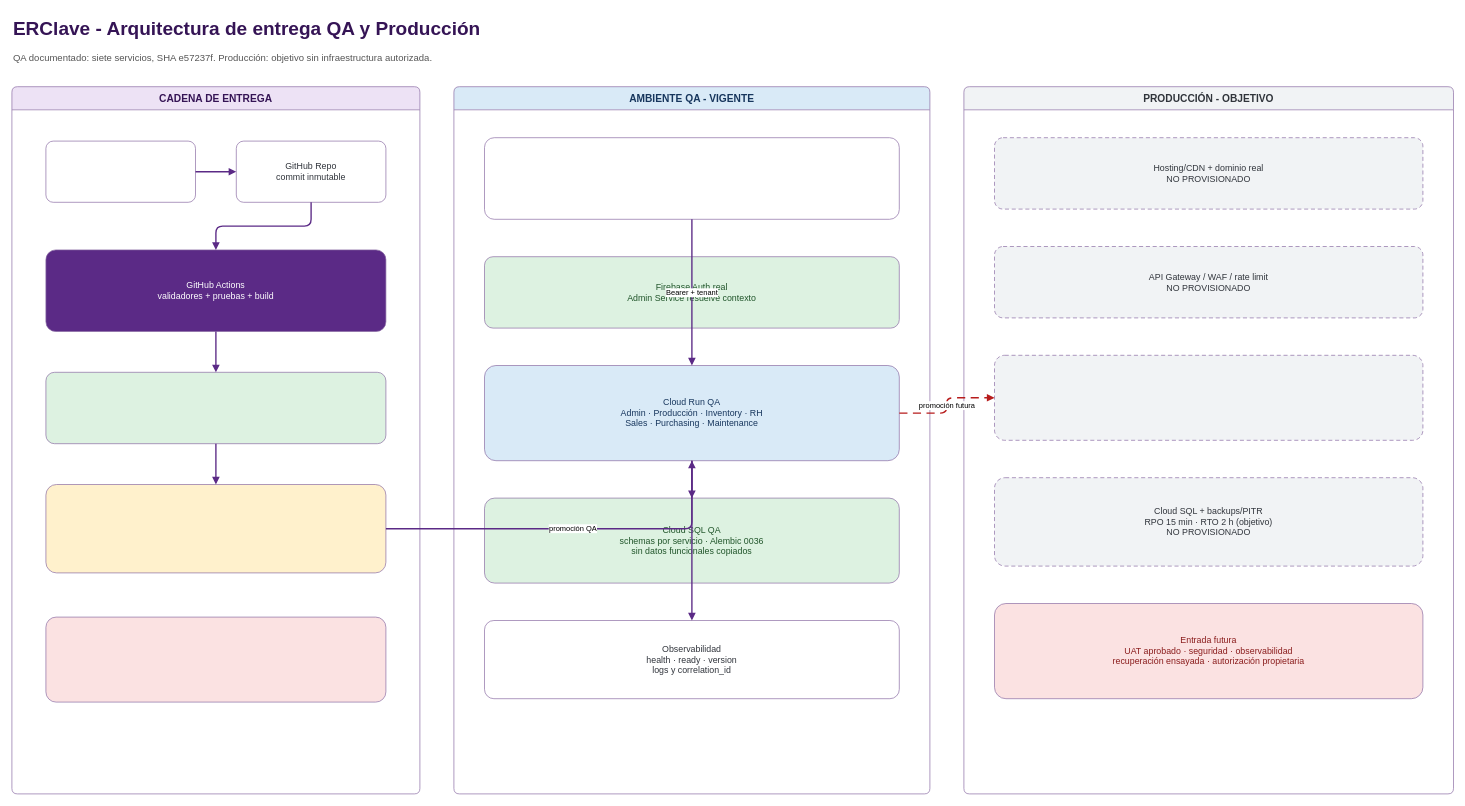
The diagram is 1465 pixels wide and 806 high, and some of its shapes have lost their labels. Each missing label, with the centre of its shape:
Aprobaciones protegidas DB/config · servicios · tráfico · frontend: point (215, 528)
Artifact Registry imagen por digest: point (215, 408)
Cloud Run Producción artefactos promovidos desde QA NO PROVISIONADO: point (1208, 397)
Equipo / rama: point (120, 171)
Firebase Hosting QA shell + microfrontends 7 URL HTTPS sanitizadas: point (691, 178)
Rollback revisión anterior / Hosting anterior DB por PITR o forward-fix: point (215, 659)
